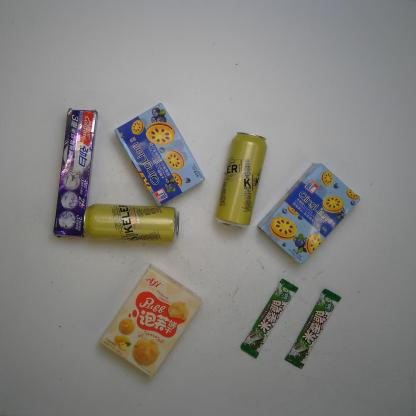Alcohol: (77, 197, 181, 247), (216, 126, 266, 228)
Chocolate: (236, 275, 301, 360), (282, 286, 341, 370)
Dessert: (92, 263, 205, 384), (113, 97, 208, 214), (256, 160, 367, 259)
Personal Hygiene: (51, 98, 100, 242)
